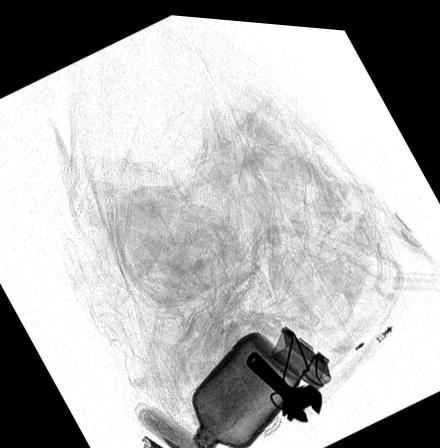Wrench: (245, 347, 322, 416)
